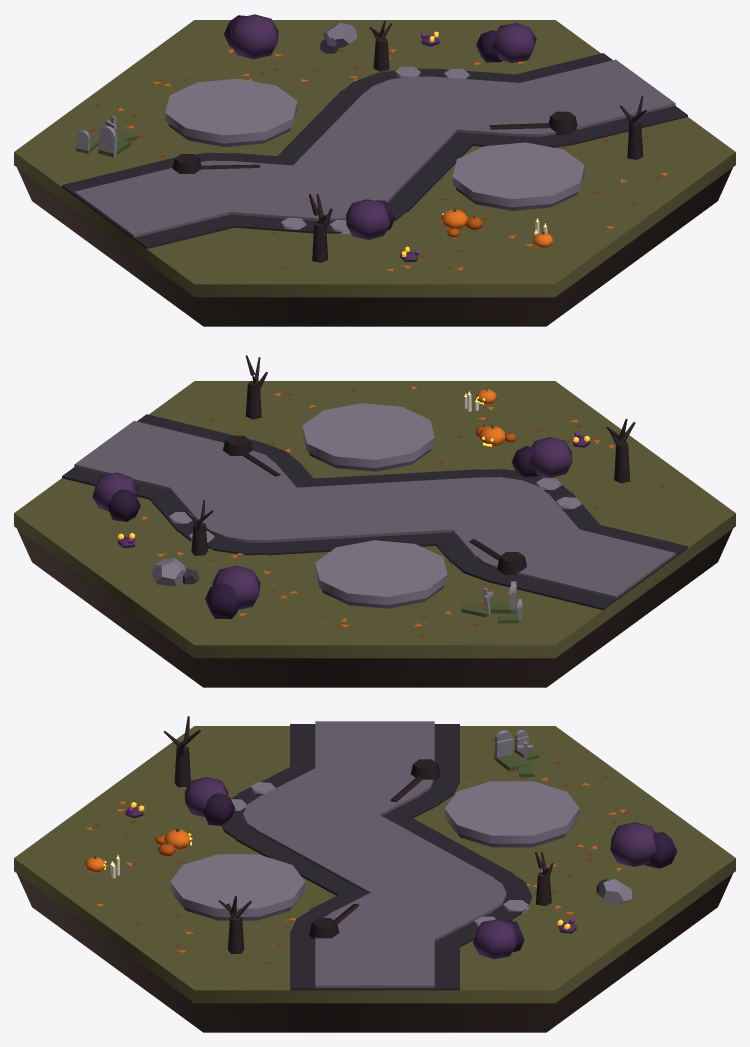
Rendered from tile_longRoad.glb.
3 views of the same model, one above another, from view 1: azimuth 30°, elevation 25°; view 2: azimuth 150°, elevation 25°; view 3: azimuth 270°, elevation 25° (orthographic).
Parts seen in each view (by area): view 1: ground, road, ground_soil, tower_slot_2_plate, tower_slot_1_plate, deco_bush_3_a, deco_bush_0_a, deco_bush_6_a, root_stump_0, deco_tree_4_trunk, deco_stone_7_a, deco_bush_6_b; view 2: ground, road, ground_soil, tower_slot_1_plate, tower_slot_2_plate, deco_bush_0_a, deco_bush_3_a, deco_bush_6_a, deco_bush_3_b, deco_bush_6_b, deco_stone_7_a, deco_tree_4_trunk (+2 smaller); view 3: ground, road, ground_soil, tower_slot_1_plate, tower_slot_2_plate, deco_bush_3_a, deco_bush_6_a, deco_bush_0_a, deco_bush_0_b, deco_bush_3_b, deco_stone_7_a, deco_tree_4_trunk (+3 smaller).
Part boxes in pixels (<box>): ground: <box>14,20,735,297</box>; road: <box>62,53,687,248</box>; ground_soil: <box>17,167,732,326</box>; tower_slot_2_plate: <box>452,142,584,207</box>; tower_slot_1_plate: <box>165,78,297,143</box>; deco_bush_3_a: <box>230,14,278,59</box>; deco_bush_0_a: <box>345,199,389,239</box>; deco_bush_6_a: <box>491,23,536,62</box>; root_stump_0: <box>548,111,577,134</box>; deco_tree_4_trunk: <box>312,221,328,262</box>; deco_stone_7_a: <box>323,22,357,47</box>; deco_bush_6_b: <box>476,30,502,62</box>; ground: <box>14,381,735,658</box>; road: <box>62,414,687,610</box>; ground_soil: <box>17,529,732,687</box>; tower_slot_1_plate: <box>315,540,447,605</box>; tower_slot_2_plate: <box>302,403,434,468</box>; deco_bush_0_a: <box>529,437,572,477</box>; deco_bush_3_a: <box>212,565,260,609</box>; deco_bush_6_a: <box>92,472,137,511</box>; deco_bush_3_b: <box>205,583,239,619</box>; deco_bush_6_b: <box>108,489,140,521</box>; deco_stone_7_a: <box>151,558,185,586</box>; deco_tree_4_trunk: <box>614,441,630,483</box>; ground: <box>14,726,735,1003</box>; road: <box>221,721,531,990</box>; ground_soil: <box>17,873,732,1032</box>; tower_slot_1_plate: <box>444,781,579,843</box>; tower_slot_2_plate: <box>170,854,305,916</box>; deco_bush_3_a: <box>610,822,655,866</box>; deco_bush_6_a: <box>473,919,518,959</box>; deco_bush_0_a: <box>184,777,228,816</box>; deco_bush_0_b: <box>203,793,235,825</box>; deco_bush_3_b: <box>645,832,677,868</box>; deco_stone_7_a: <box>599,879,631,905</box>; deco_tree_4_trunk: <box>174,746,190,787</box>.
Size of the model in its own units: 1.73 by 0.3478 by 2.
